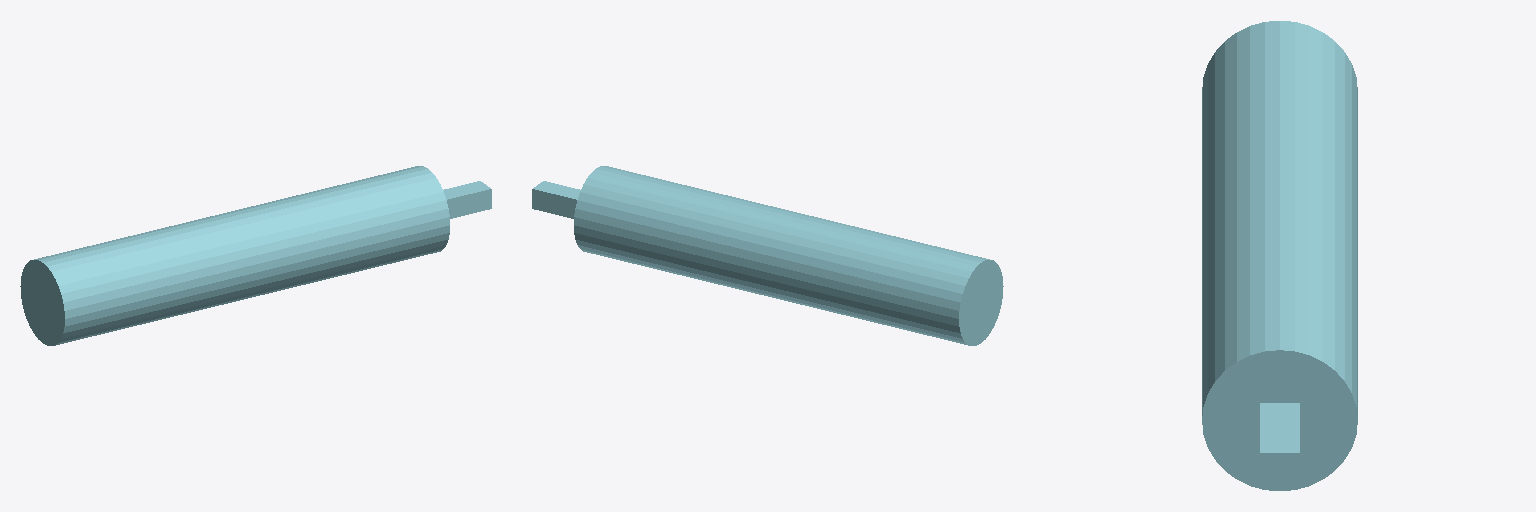
The robot description file, URDF, robot "primitive_thin_marker":
<?xml version="1.0"?>
<robot name="primitive_thin_marker">

  <link name="primitive_thin_marker">
    <!-- Handle -->
    <visual>
      <origin xyz="0 0 0" rpy="0 1.5707963267948966 0"/>
      <geometry>
        <cylinder length="0.1" radius="0.01"/>
      </geometry>
      <material name="material">
        <color rgba="0.639 0.847 0.882 1.0"/>
      </material>
    </visual>
    <collision>
      <origin xyz="0 0 0" rpy="0 1.5707963267948966 0"/>
      <geometry>
        <cylinder length="0.1" radius="0.01"/>
      </geometry>
    </collision>

    <!-- Head -->
    <visual>
      <origin xyz="0.0575 0 0" rpy="0 0 0"/>
      <geometry>
        <box size="0.015 0.005 0.005"/>
      </geometry>
      <material name="material">
        <color rgba="0.639 0.847 0.882 1.0"/>
      </material>
    </visual>
    <collision>
      <origin xyz="0.0575 0 0" rpy="0 0 0"/>
      <geometry>
        <box size="0.015 0.005 0.005"/>
      </geometry>
    </collision>

    <inertial>
      <density value="400.0"/>
    </inertial>
  </link>

</robot>

--- Render facts (derived) ---
Views: 3 orthographic renders of the robot side by side, from view 1: azimuth 30°, elevation 25°; view 2: azimuth 150°, elevation 25°; view 3: azimuth 270°, elevation 25°.
Robot: primitive_thin_marker — 1 links, 0 joints (none); root link primitive_thin_marker; default pose: every joint at zero.
Links seen in each view (by area): view 1: primitive_thin_marker; view 2: primitive_thin_marker; view 3: primitive_thin_marker.
Link boxes in pixels (left/top/right/bottom): primitive_thin_marker: left=20, top=166, right=491, bottom=345; primitive_thin_marker: left=532, top=166, right=1003, bottom=345; primitive_thin_marker: left=1202, top=21, right=1357, bottom=490.
Bounding box of the posed robot: 0.115 × 0.02 × 0.02 m (x, y, z).
Geometry: primitives only (box / cylinder / sphere), no mesh files.
